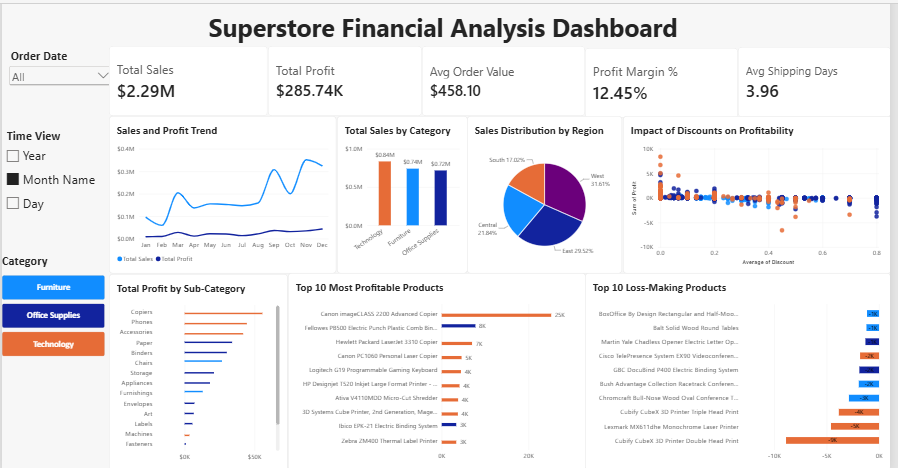

The dashboard page shown, as its layout file describes it:
{"tool":"powerbi","page":{"name":"Page 1","canvas":[1920,1080],"ordinal":0},"visuals":[{"type":"slicer","fields":{"Values":["superstore_cleaned.Year","superstore_cleaned.Month Name","superstore_cleaned.Day"]},"box":[10.1,167.4,230.8,144.6],"z":0},{"type":"cardVisual","fields":{"Data":["_Measures.Total Sales"]},"box":[231.8,161.3,342.7,151.2],"z":1000},{"type":"cardVisual","fields":{"Data":["_Measures.Total Profit"]},"box":[574.5,161.3,332.6,151.2],"z":2000},{"type":"cardVisual","fields":{"Data":["_Measures.Avg Order value"]},"box":[907.1,161.3,352.8,151.2],"z":3000},{"type":"textbox","box":[0,0,1111.2,85.7],"z":4000},{"type":"textbox","box":[0,47.9,1920,113.4],"z":5000},{"type":"cardVisual","fields":{"Data":["_Measures.Profit Margin %"]},"box":[1259.8,166.3,330.1,151.2],"z":6000},{"type":"cardVisual","fields":{"Data":["_Measures.Avg Shipping Days"]},"box":[1589.9,163.8,330.1,151.2],"z":7000},{"type":"lineChart","title":"Sales and Profit Trend ","fields":{"Category":["superstore_cleaned.Month Name"],"Y":["_Measures.Total Sales","_Measures.Total Profit"]},"box":[231.8,312.4,491.3,340.2],"z":8000},{"type":"slicer","fields":{"Values":["Time View.Time View"]},"box":[2.5,339.9,220.7,200.4],"z":9000},{"type":"actionButton","box":[0,0,100,40],"z":10000},{"type":"columnChart","title":"Total Sales by Category","fields":{"Category":["superstore_cleaned.Category"],"Y":["_Measures.Total Sales"]},"box":[723.1,312.4,282.2,340.2],"z":11000},{"type":"pieChart","title":"Sales Distribution by Region","fields":{"Category":["superstore_cleaned.Region"],"Y":["_Measures.Total Sales"]},"box":[1005.4,312.4,335.1,340.2],"z":12000},{"type":"clusteredBarChart","title":"Total Profit by Sub-Category","fields":{"Category":["superstore_cleaned.Sub-Category"],"Series":["superstore_cleaned.Category"],"Y":["_Measures.Total Profit"]},"box":[230.8,654.4,385.5,425.8],"z":13000},{"type":"scatterChart","title":"Impact of Discounts on Profitability","fields":{"Category":["superstore_cleaned.Order ID"],"Series":["superstore_cleaned.Category"],"X":["Avg(superstore_cleaned.Discount)"],"Y":["Sum(superstore_cleaned.Profit)"]},"box":[1340.5,312.4,579.5,340.2],"z":14000},{"type":"clusteredBarChart","title":"Top 10 Most Profitable Products","fields":{"Category":["superstore_cleaned.Product Name"],"Series":["superstore_cleaned.Category"],"Y":["Sum(superstore_cleaned.Profit)"]},"box":[617.3,652.6,642.5,425.8],"z":15000},{"type":"barChart","title":"Top 10 Loss-Making Products","fields":{"Category":["superstore_cleaned.Product Name"],"Series":["superstore_cleaned.Category"],"Y":["Sum(superstore_cleaned.Profit)"]},"box":[1259.8,652.6,660.2,425.8],"z":16000},{"type":"advancedSlicerVisual","fields":{"Values":["superstore_cleaned.Category"]},"box":[0,608.7,222,224],"z":17000}]}

Visuals, with their boxes on the page's 1920x1080 design canvas (x1, y1, x2, y2). These are canvas units, not pixel positions in the 898x468 screenshot, which may show the page scaled, cropped or inside an application window:
slicer - superstore_cleaned.Year x superstore_cleaned.Month Name: 10,167,241,312
cardVisual - _Measures.Total Sales: 232,161,574,312
cardVisual - _Measures.Total Profit: 574,161,907,312
cardVisual - _Measures.Avg Order value: 907,161,1260,312
textbox: 0,0,1111,86
textbox: 0,48,1920,161
cardVisual - _Measures.Profit Margin %: 1260,166,1590,318
cardVisual - _Measures.Avg Shipping Days: 1590,164,1920,315
"Sales and Profit Trend " lineChart: 232,312,723,653
slicer - Time View.Time View: 2,340,223,540
actionButton: 0,0,100,40
"Total Sales by Category" columnChart: 723,312,1005,653
"Sales Distribution by Region" pieChart: 1005,312,1340,653
"Total Profit by Sub-Category" clusteredBarChart: 231,654,616,1080
"Impact of Discounts on Profitability" scatterChart: 1340,312,1920,653
"Top 10 Most Profitable Products" clusteredBarChart: 617,653,1260,1078
"Top 10 Loss-Making Products" barChart: 1260,653,1920,1078
advancedSlicerVisual - superstore_cleaned.Category: 0,609,222,833
